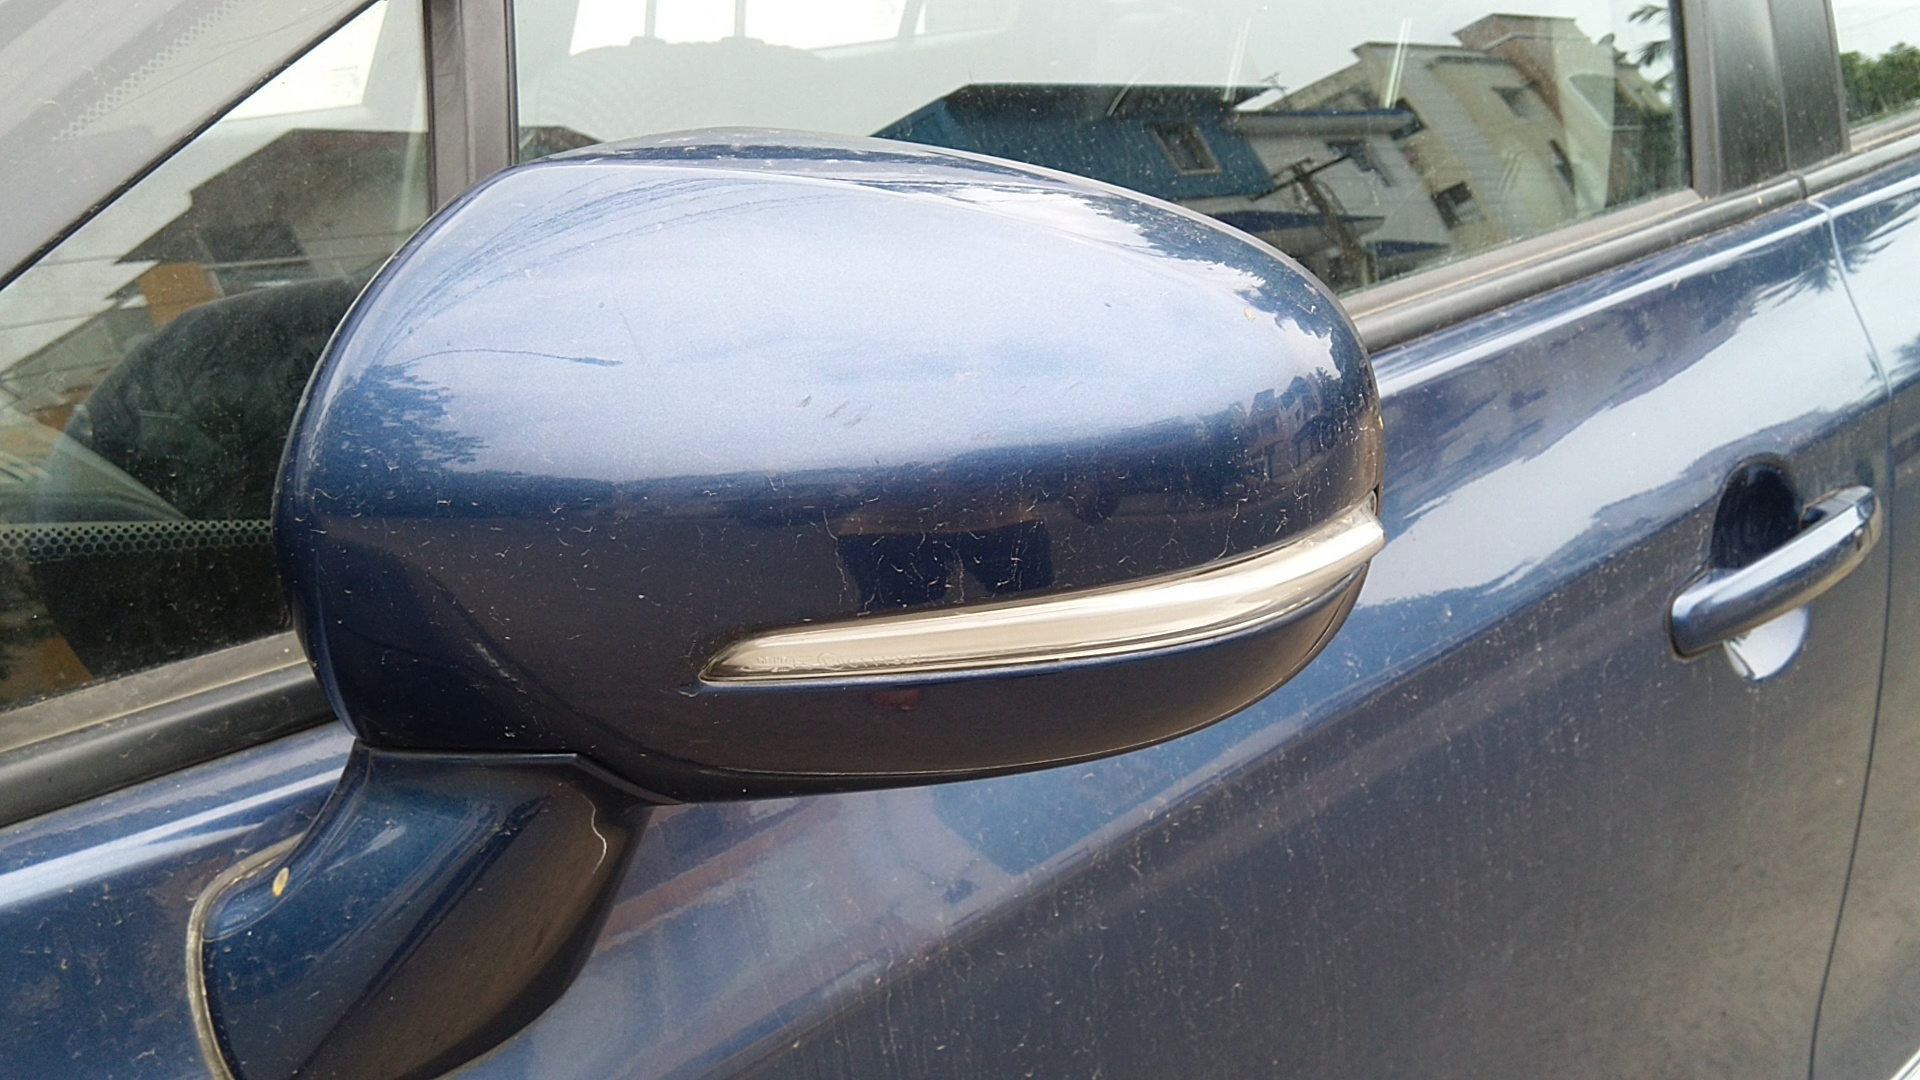ovr_mirror: (141, 98, 1419, 1080)
